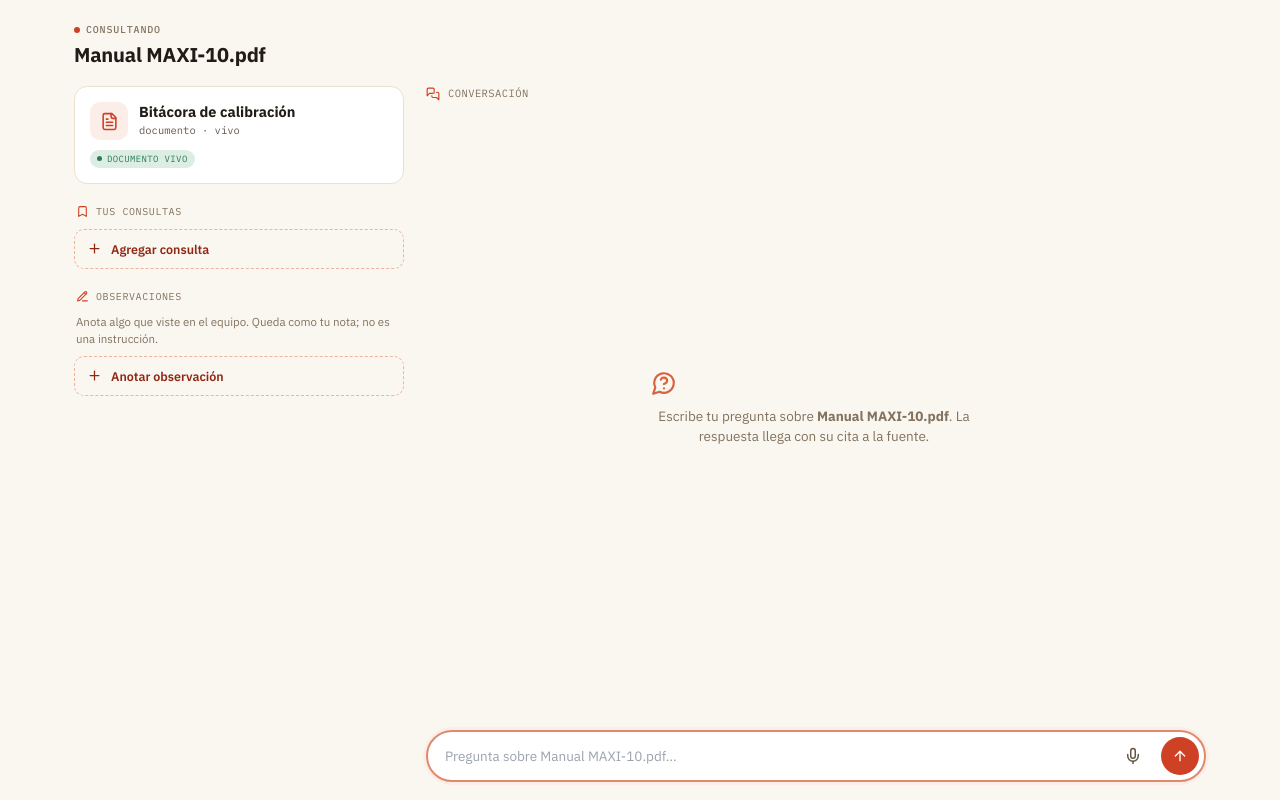
ConsultView — chip de procedencia = TIPO REAL del documento citado (PRIORIDAD 0 §4) › una Informativa sobre un manual_tecnico muestra 'Manual técnico', NO 'Ficha técnica'
Step 1. Type "¿Qué lubricante usa?" into the field with placeholder "Pregunta sobre Manual MAXI-10.pdf…" → (775, 756), box [445,746,1105,766]
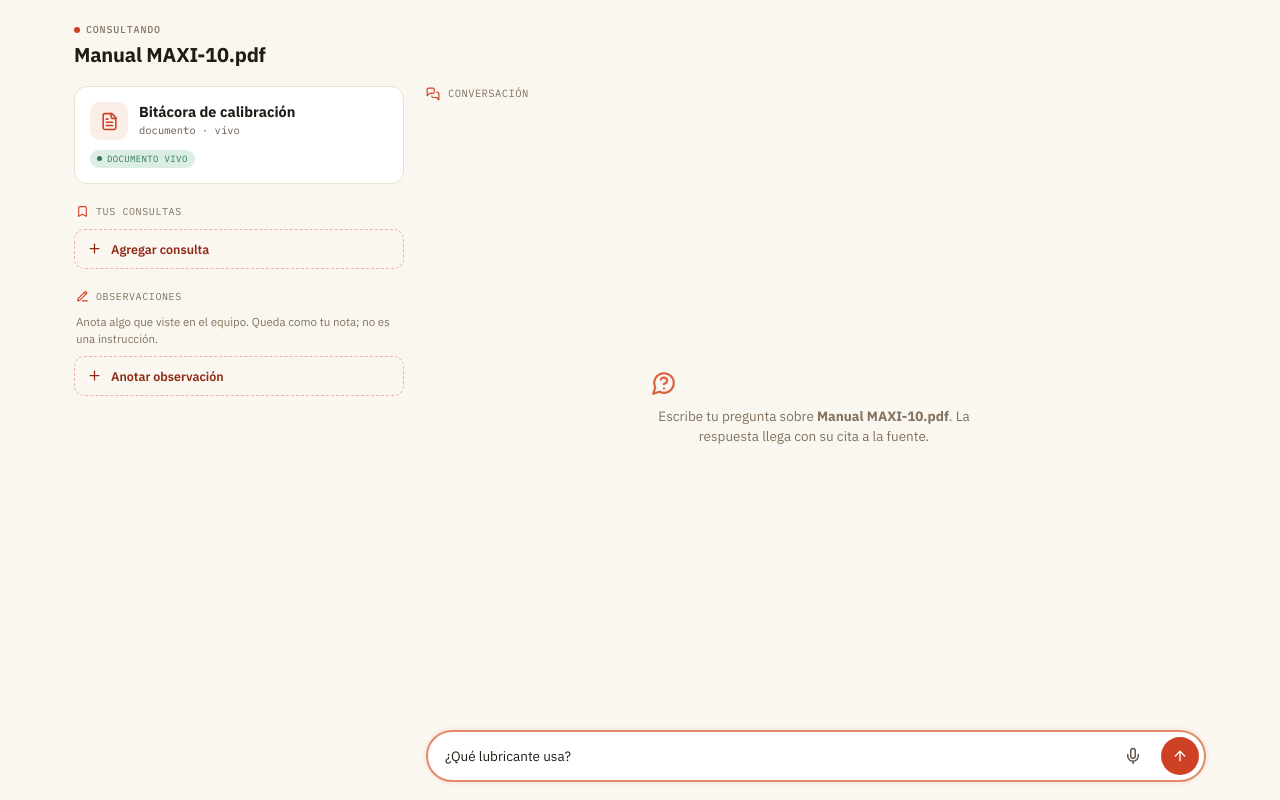
Step 2. Submit the form with placeholder "Pregunta sobre", box [426,730,1206,782]
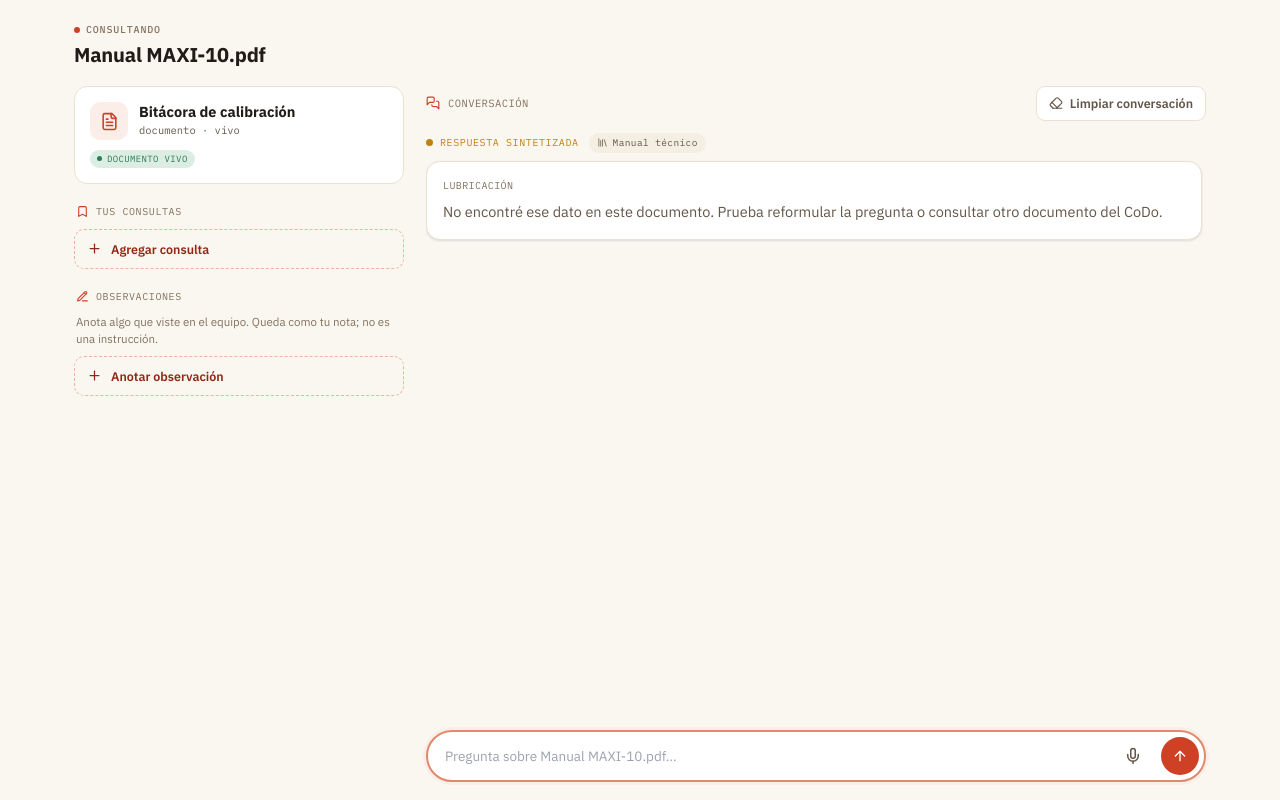
Expected: the text "Manual técnico" is shown, [589,133,706,153]
